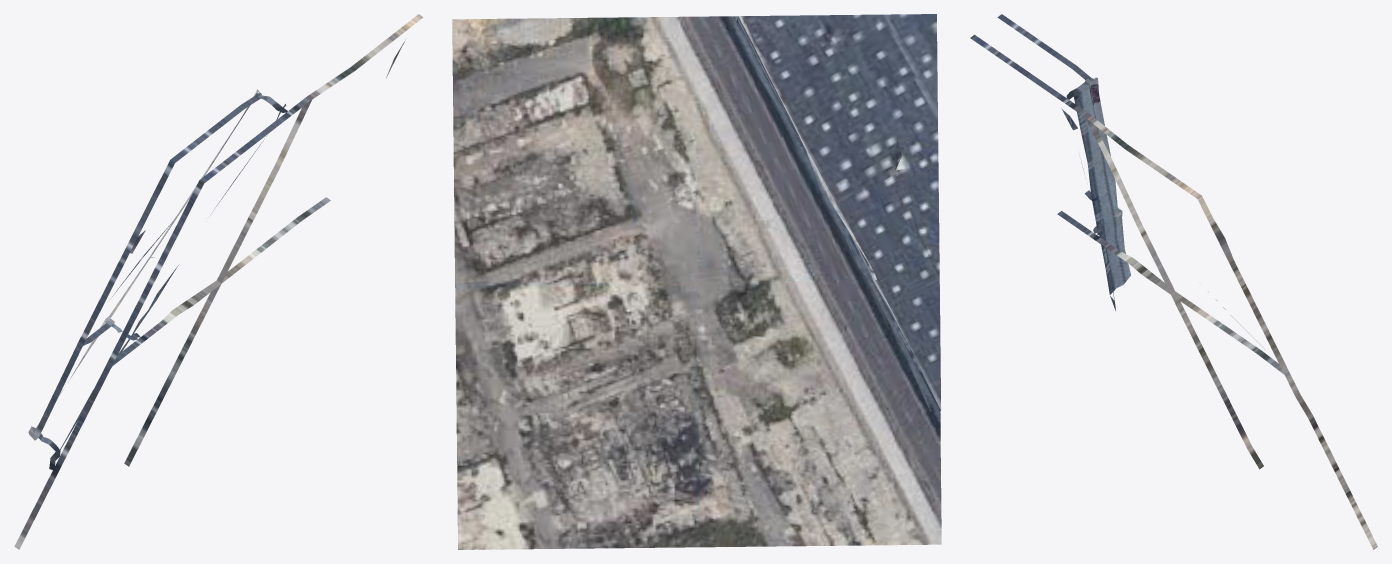
3 views of the same model, side by side, from view 1: azimuth 30°, elevation 25°; view 2: azimuth 150°, elevation 25°; view 3: azimuth 270°, elevation 25° (orthographic). The views are drawn at different scales.
Size of the model in its own units: 153 by 144 by 128.
Materials: 1 (1 with a texture image).
